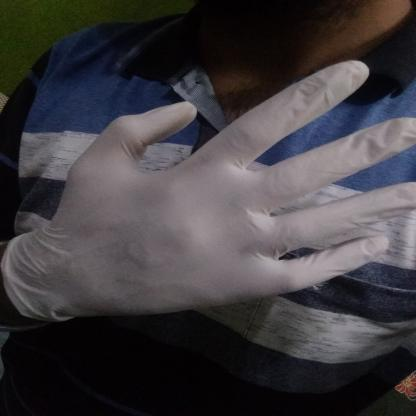gloved_hand: (0, 57, 416, 326)
